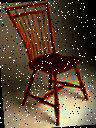Silla: (4, 1, 90, 128)
